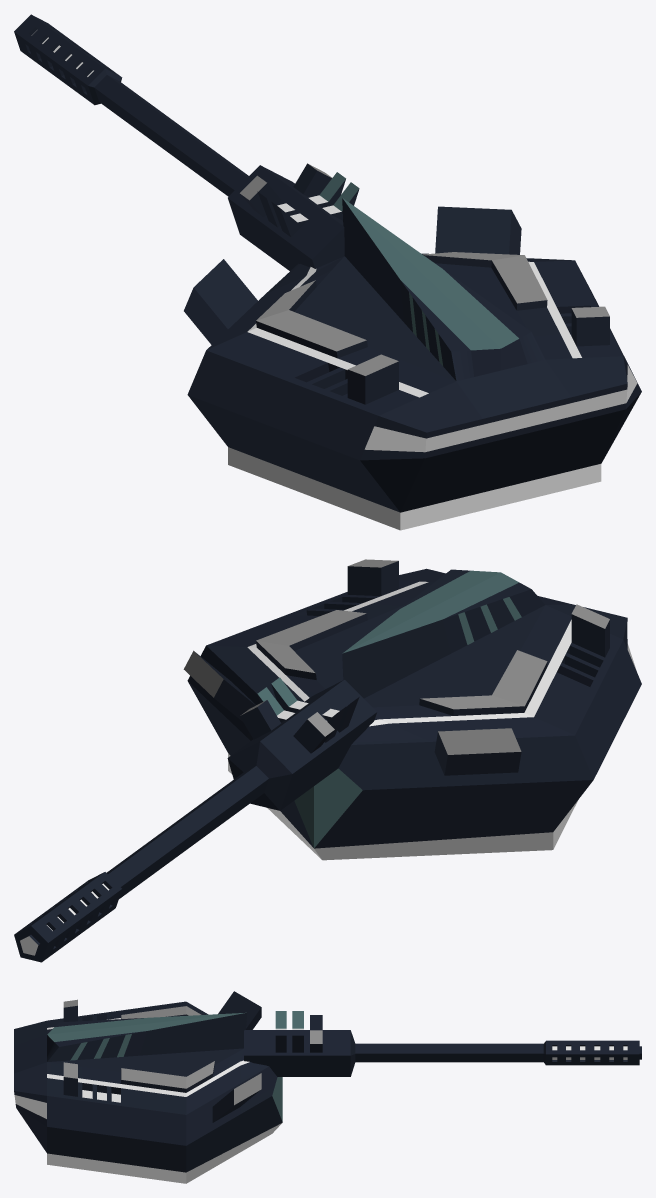
File: Silencer_Turret.fbx
3 views of the same model, one above another, from view 1: azimuth 30°, elevation 25°; view 2: azimuth 150°, elevation 25°; view 3: azimuth 270°, elevation 25° (orthographic). The views are drawn at different scales.
Visible parts, largest first — view 1: Rail Gun.005; view 2: Rail Gun.005; view 3: Rail Gun.005.
Boxes of the visible parts, bbox=[...] form: Rail Gun.005: bbox=[14, 14, 641, 530]; Rail Gun.005: bbox=[14, 559, 641, 962]; Rail Gun.005: bbox=[14, 991, 641, 1183].
Size of the model in its own units: 389 by 176 by 826.
